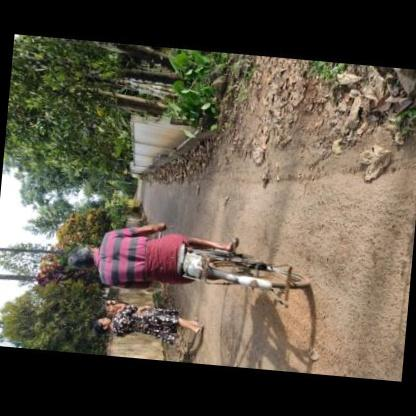Bicycle: (141, 218, 308, 315)
